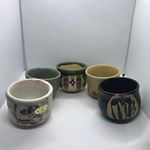cups: (4, 77, 56, 130), (98, 75, 143, 127), (54, 60, 89, 95)
